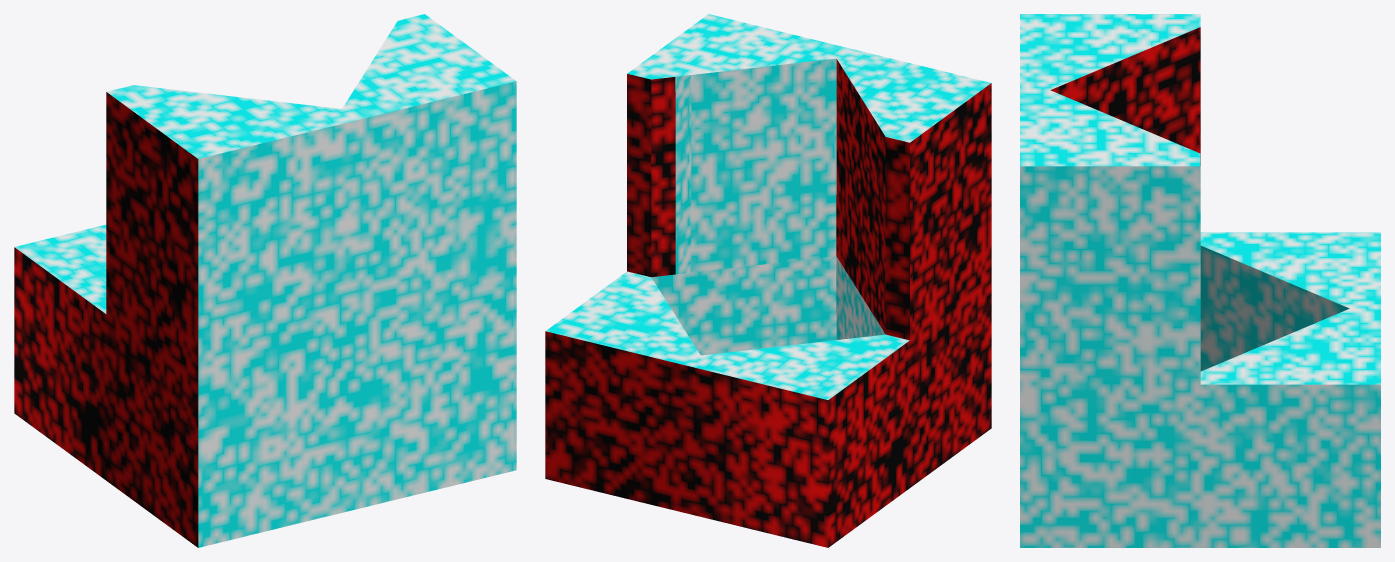
The model's file is SM_MonadBless_Separate_05_GDH.fbx.
The picture shows the model from 3 angles, left to right: view 1: azimuth 30°, elevation 25°; view 2: azimuth 150°, elevation 25°; view 3: azimuth 270°, elevation 25°; orthographic projection. The views are drawn at different scales.
Visible parts, largest first — view 1: SM_MonadBless_Separate_05_GDH; view 2: SM_MonadBless_Separate_05_GDH; view 3: SM_MonadBless_Separate_05_GDH.
Boxes of the visible parts, left/top/right/bottom form: SM_MonadBless_Separate_05_GDH: left=14, top=14, right=516, bottom=547; SM_MonadBless_Separate_05_GDH: left=545, top=14, right=991, bottom=547; SM_MonadBless_Separate_05_GDH: left=1020, top=14, right=1380, bottom=547.
Size of the model in its own units: 12.12 by 14.37 by 12.12.
